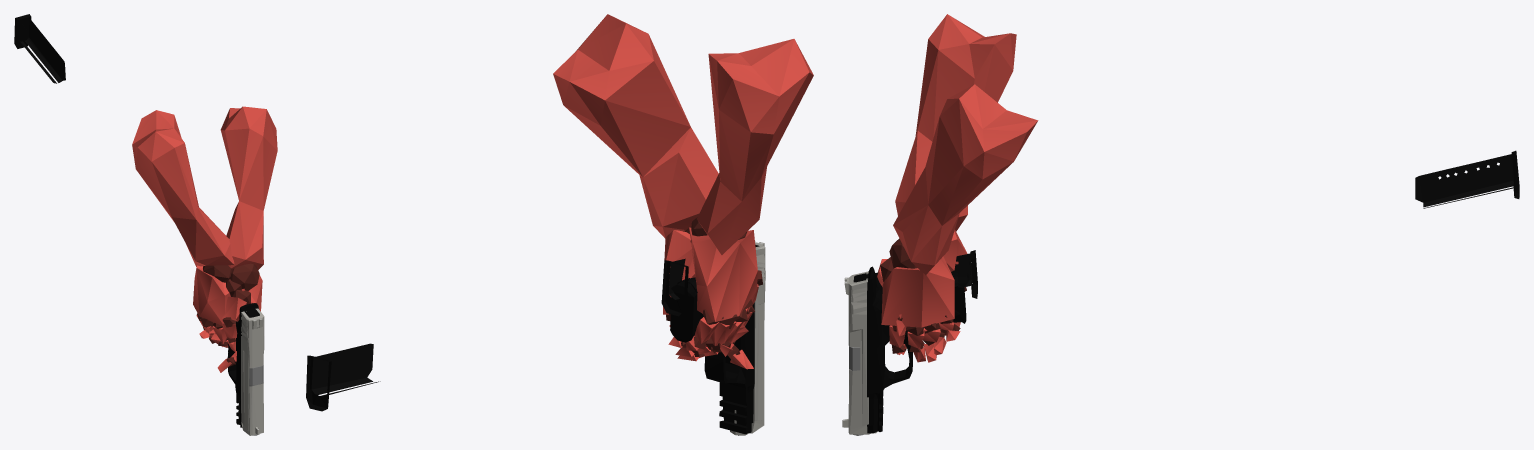
File: M&P9reloadNormal1lowP_000150.obj
The picture shows the model from 3 angles, left to right: view 1: azimuth 30°, elevation 25°; view 2: azimuth 150°, elevation 25°; view 3: azimuth 270°, elevation 25°; orthographic projection. The views are drawn at different scales.
Visible parts, largest first — view 1: Beta_Surface.001_Beta_Surface.002, slide_平面.002, Beta_Joints.001_Beta_Joints.002, magazine_平面.003, triger_平面.001; view 2: Beta_Surface.001_Beta_Surface.002, triger_平面.001, magazine_平面.003, slide_平面.002, Beta_Joints.001_Beta_Joints.002, magazine.002_平面.005; view 3: Beta_Surface.001_Beta_Surface.002, triger_平面.001, magazine_平面.003, slide_平面.002, Beta_Joints.001_Beta_Joints.002, magazine.002_平面.005.
Boxes of the visible parts, box(x1,y1,x2,y2) form: Beta_Surface.001_Beta_Surface.002: box(132, 106, 277, 372); slide_平面.002: box(241, 308, 264, 435); Beta_Joints.001_Beta_Joints.002: box(194, 263, 259, 366); magazine_平面.003: box(14, 14, 65, 83); triger_平面.001: box(227, 303, 263, 435); Beta_Surface.001_Beta_Surface.002: box(553, 14, 813, 369); triger_平面.001: box(670, 277, 754, 435); magazine_平面.003: box(306, 343, 380, 411); slide_平面.002: box(730, 241, 765, 435); Beta_Joints.001_Beta_Joints.002: box(666, 217, 762, 361); magazine.002_平面.005: box(661, 258, 688, 316); Beta_Surface.001_Beta_Surface.002: box(877, 14, 1038, 362); triger_平面.001: box(849, 266, 968, 435); magazine_平面.003: box(1415, 150, 1519, 208); slide_平面.002: box(842, 271, 877, 434); Beta_Joints.001_Beta_Joints.002: box(880, 238, 966, 354); magazine.002_平面.005: box(875, 250, 977, 298).
Bounding box in the file's own units: 42.64 × 80.01 × 130.
